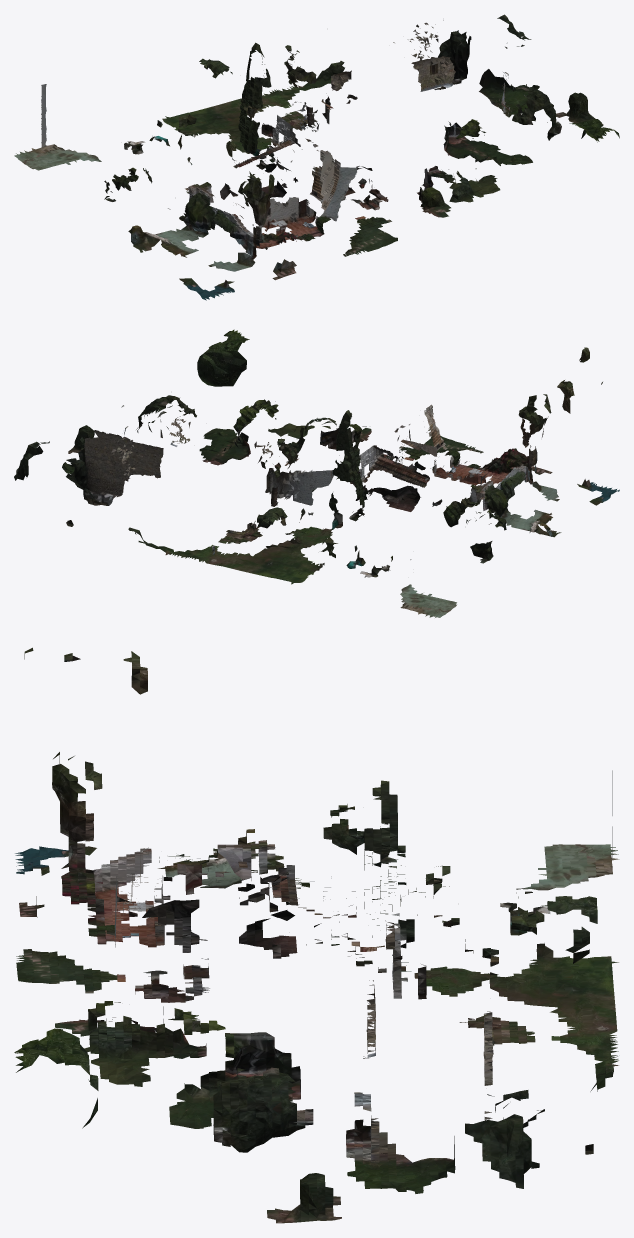
Rendered from exterior_1.glb.
3 views of the same model, one above another, from view 1: azimuth 30°, elevation 25°; view 2: azimuth 150°, elevation 25°; view 3: azimuth 270°, elevation 25° (orthographic). The views are drawn at different scales.
Parts seen in each view (by area): view 1: geometry_0; view 2: geometry_0; view 3: geometry_0.
Boxes of the visible parts, x1,y1,x2,y2 form: geometry_0: [14, 14, 619, 300]; geometry_0: [14, 329, 619, 617]; geometry_0: [14, 647, 619, 1223].
Bounding box in the file's own units: 52.57 × 15.64 × 36.63.
1 material, 1 textured.
